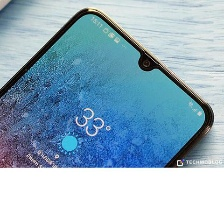phone: (0, 2, 220, 224)
